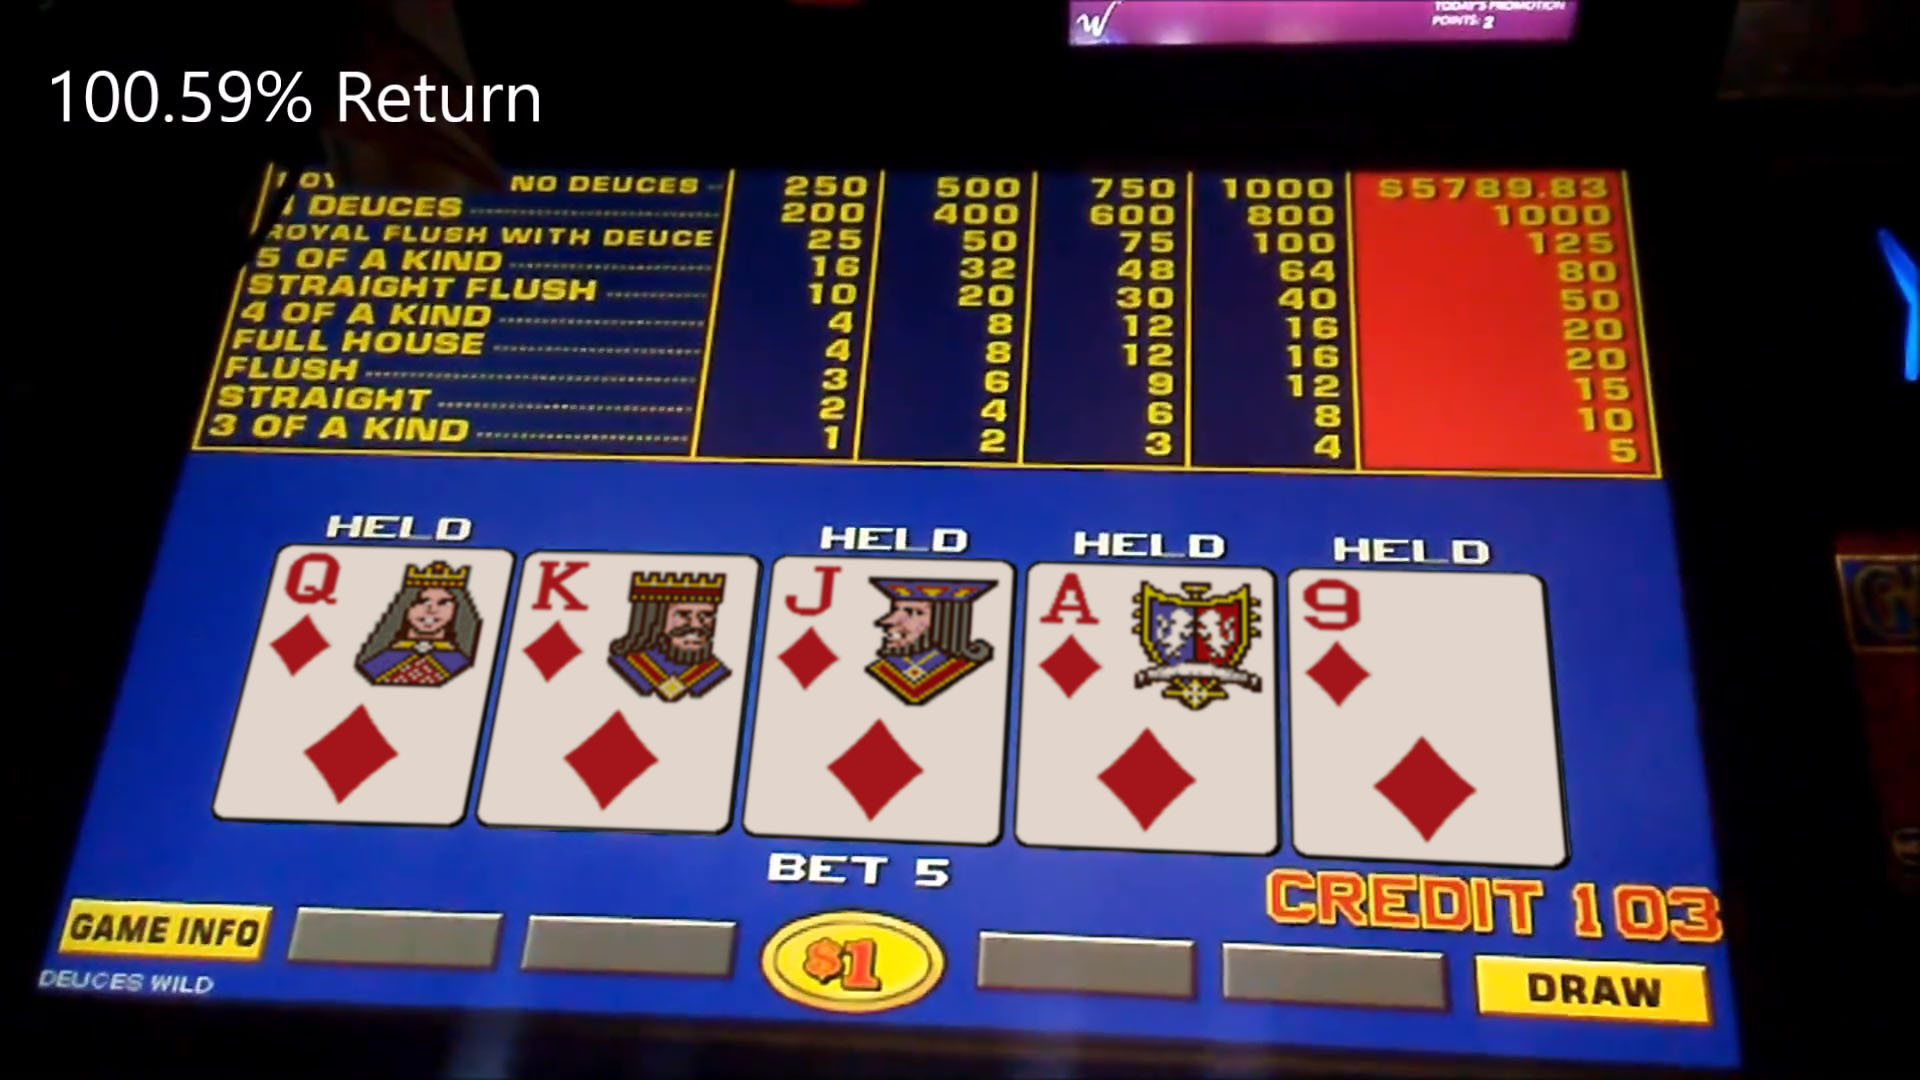D9: (1294, 575, 1540, 707)
DA: (1027, 566, 1270, 704)
DJ: (771, 558, 1007, 696)
DK: (520, 553, 745, 688)
DQ: (265, 549, 491, 684)
